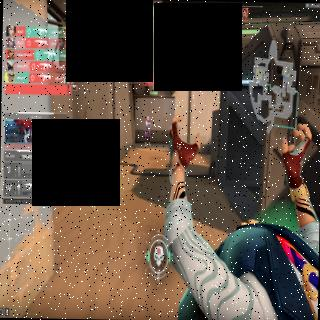ENEMY-BODY: (144, 116, 151, 148)
ENEMY-HEAD: (146, 115, 149, 122)
